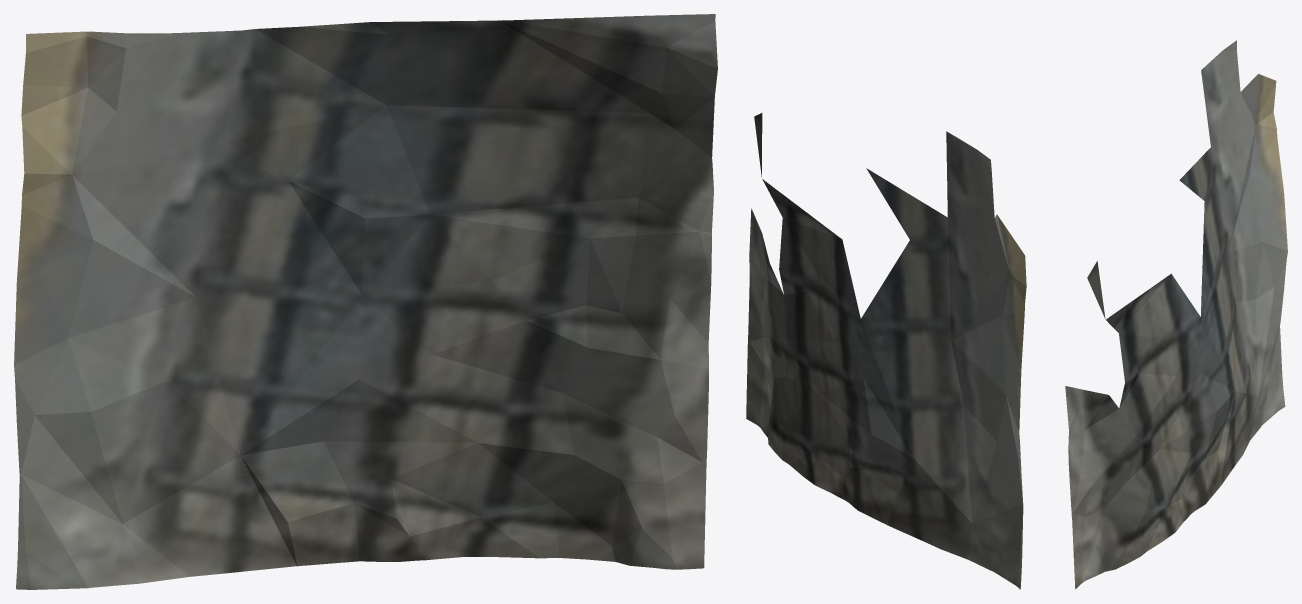
3 views of the same model, side by side, from view 1: azimuth 30°, elevation 25°; view 2: azimuth 150°, elevation 25°; view 3: azimuth 270°, elevation 25° (orthographic). The views are drawn at different scales.
Size of the model in its own units: 0.8374 by 0.8374 by 0.4482.
Materials: 3 (3 with a texture image).
